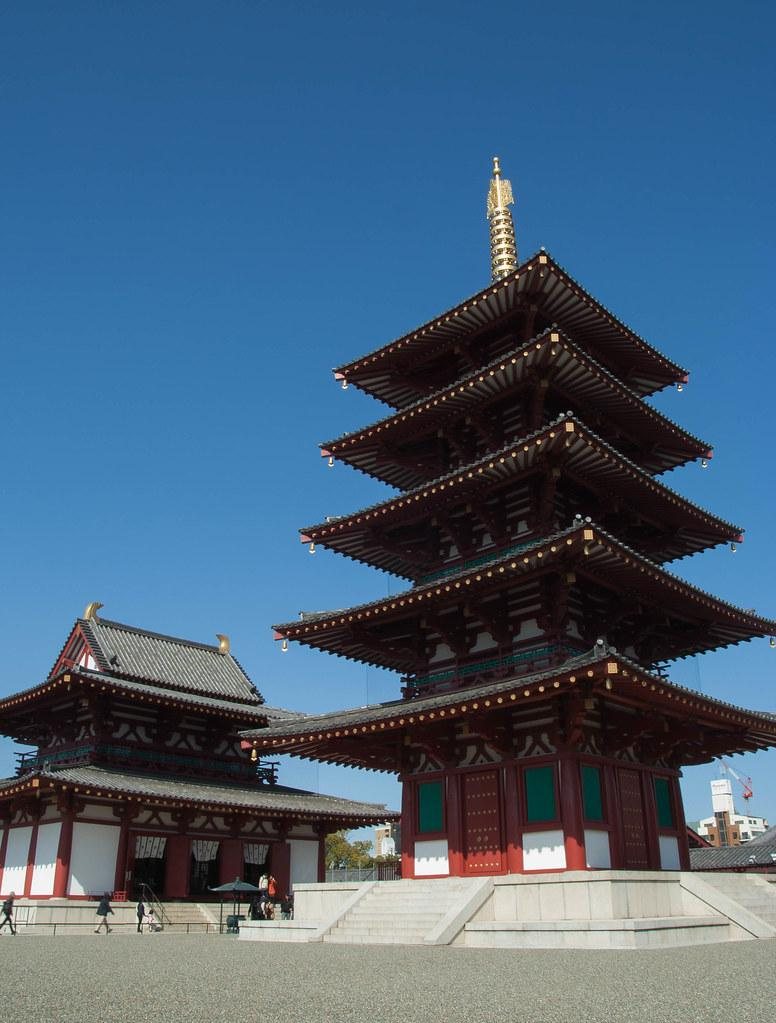temple: (236, 154, 776, 942), (1, 600, 402, 935)
